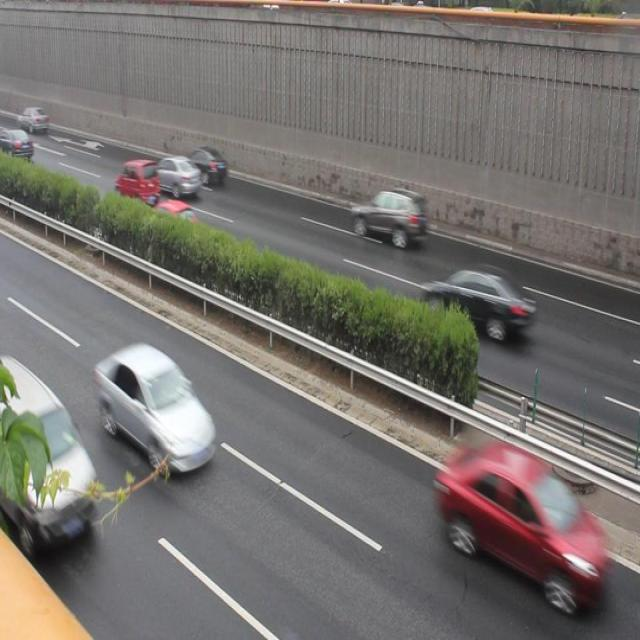car: (439, 438, 605, 607), (98, 347, 212, 470), (421, 266, 535, 342), (351, 188, 426, 248), (144, 198, 199, 250), (114, 160, 160, 206), (150, 155, 198, 199), (182, 146, 228, 189)
truck: (1, 356, 92, 555)
